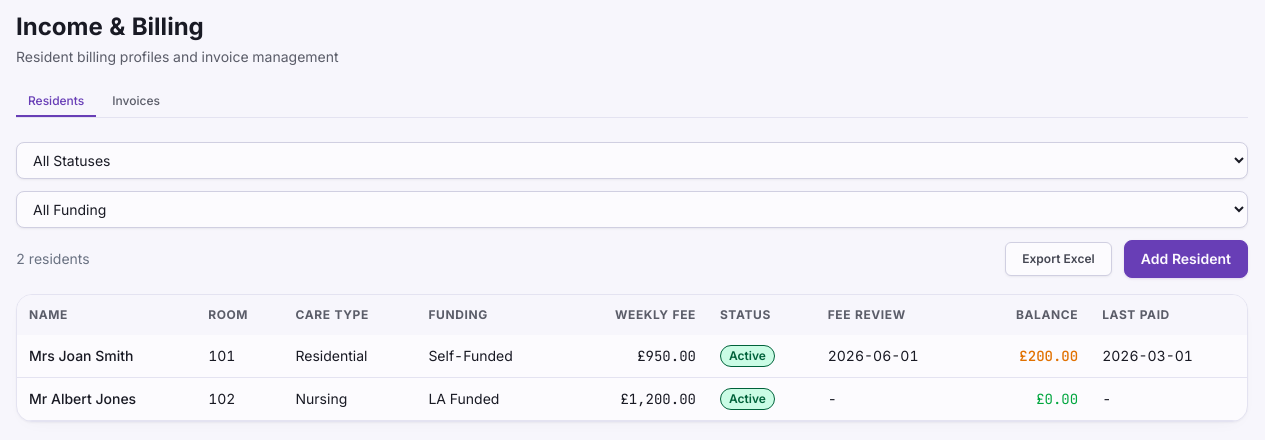
IncomeTracker › switches to invoices tab and shows invoice table
The image size is (1265, 440).
Click the tab "Invoices". click: click(136, 102)
box: [100,87,172,117]
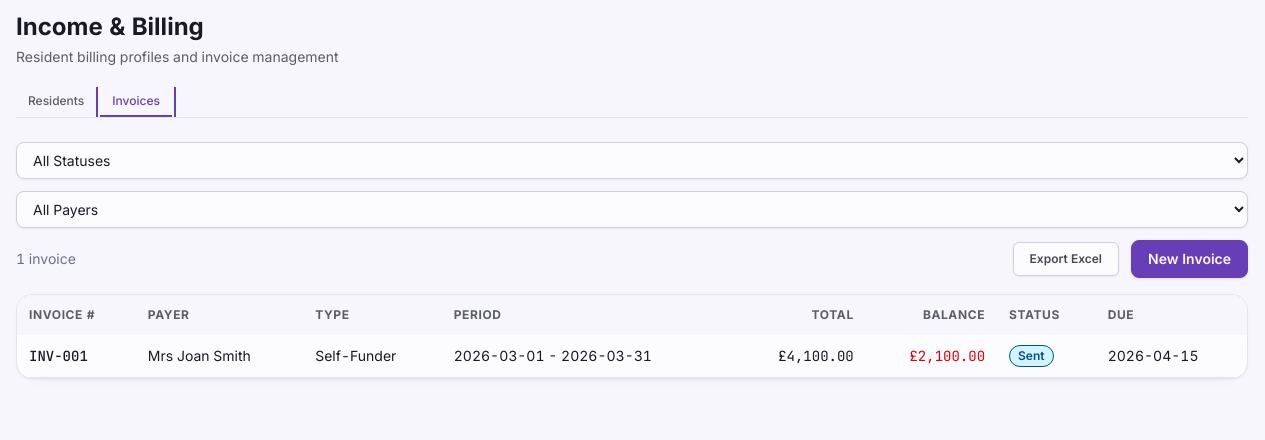
Now the text "INV-001" is shown, box [17,335,136,378]
Now the button "New Invoice" is shown, box [1131,240,1248,278]
